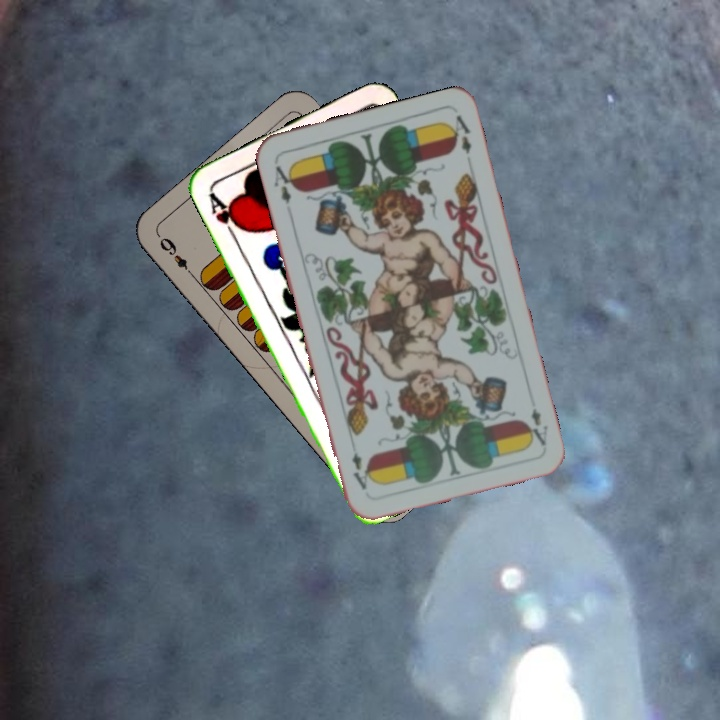E9: (155, 233, 198, 280)
EA: (270, 161, 298, 207), (522, 404, 551, 448)
HA: (204, 187, 245, 242)
